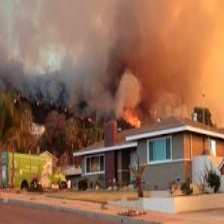smoke: (53, 2, 216, 116)
